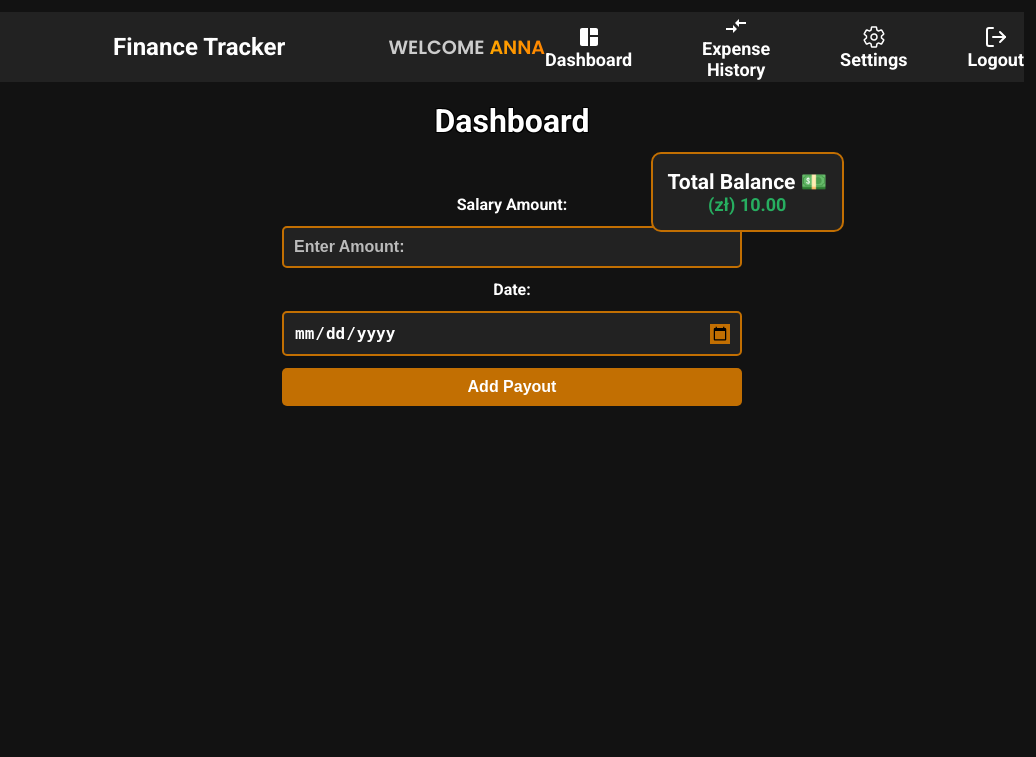
Test: a confirmed logout loads preserved guest data and clears the account draft
Expected: the button "Add Payout" is enabled, [282,368,742,406]
Step 1. Type "123.45" into the number field named "Salary amount" → x=512, y=247, box [282,226,742,268]
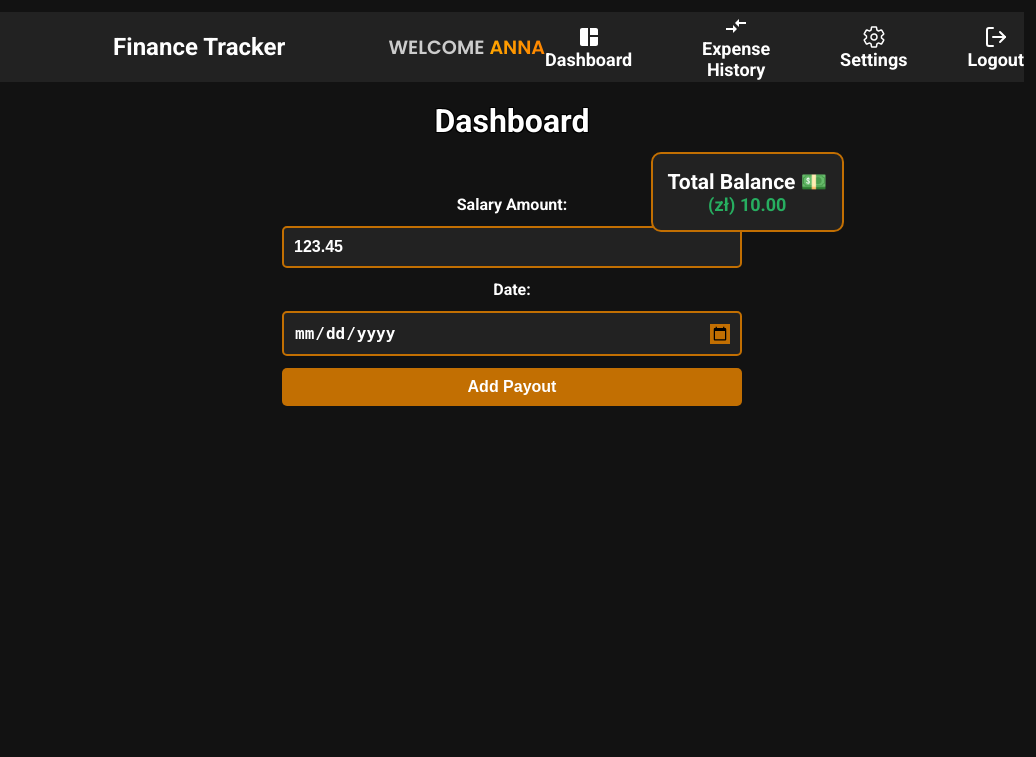
Step 2. Click the button "Logout" → x=996, y=47, box [968,24,1024,70]
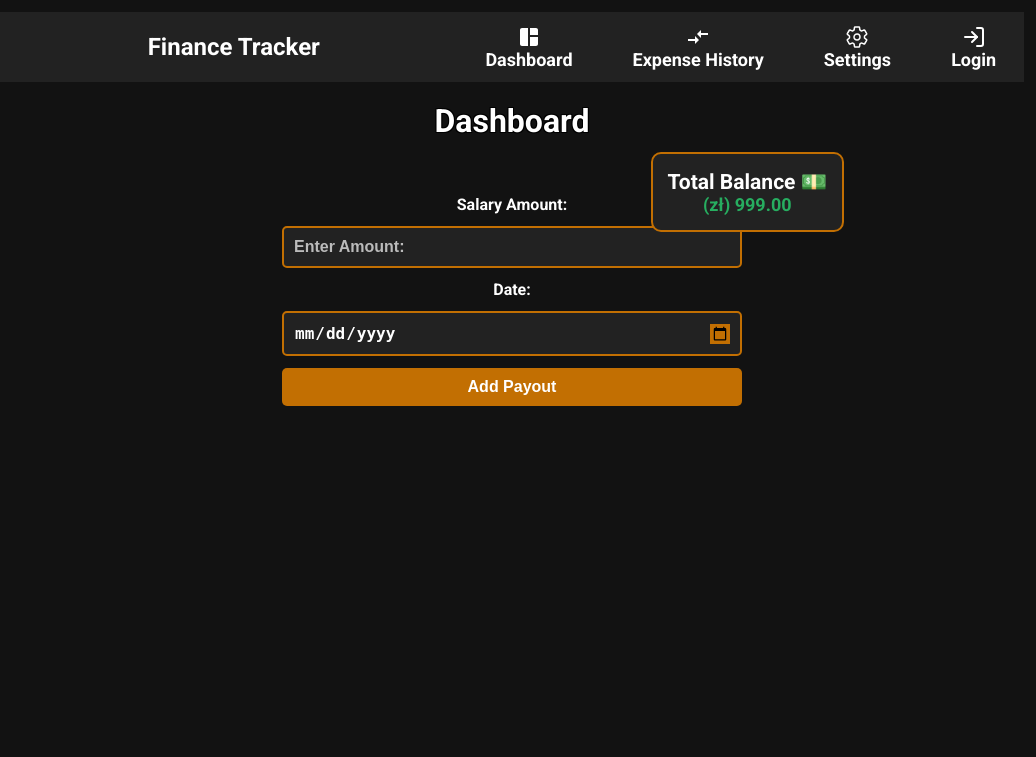
Expected: the text "(zł) 999.00" is shown, [703,194,792,215]
Expected: the number field named "Salary amount" is not empty, [282,226,742,268]
Expected: the text "(zł) 10.00" is gone
